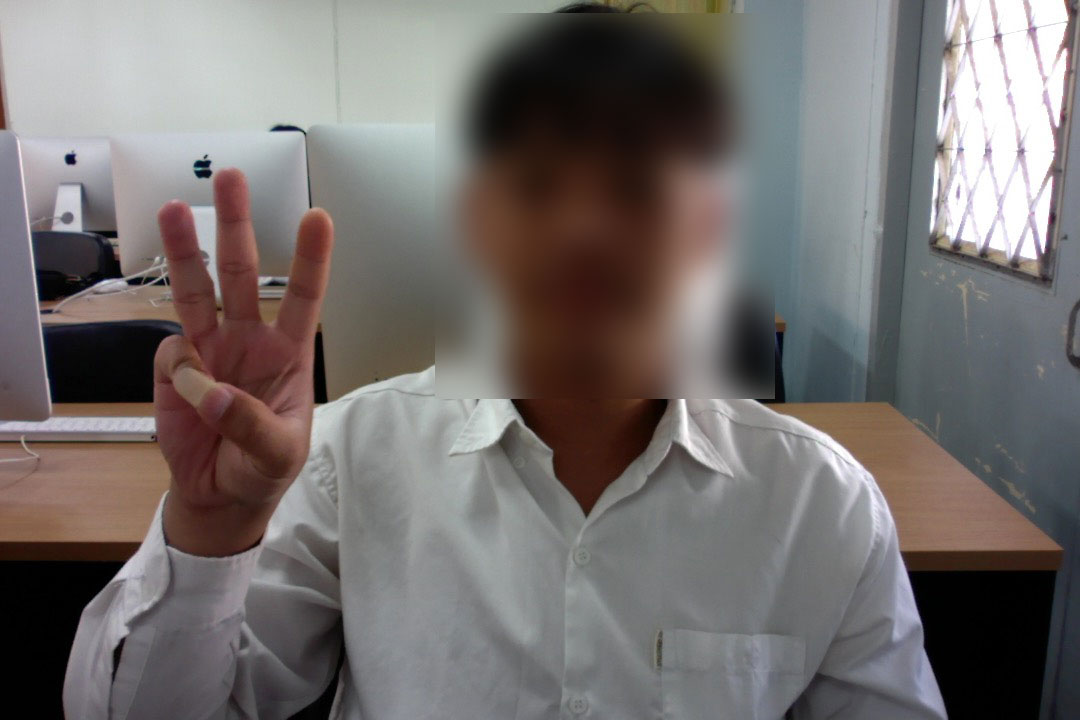wor: (119, 157, 351, 538)
